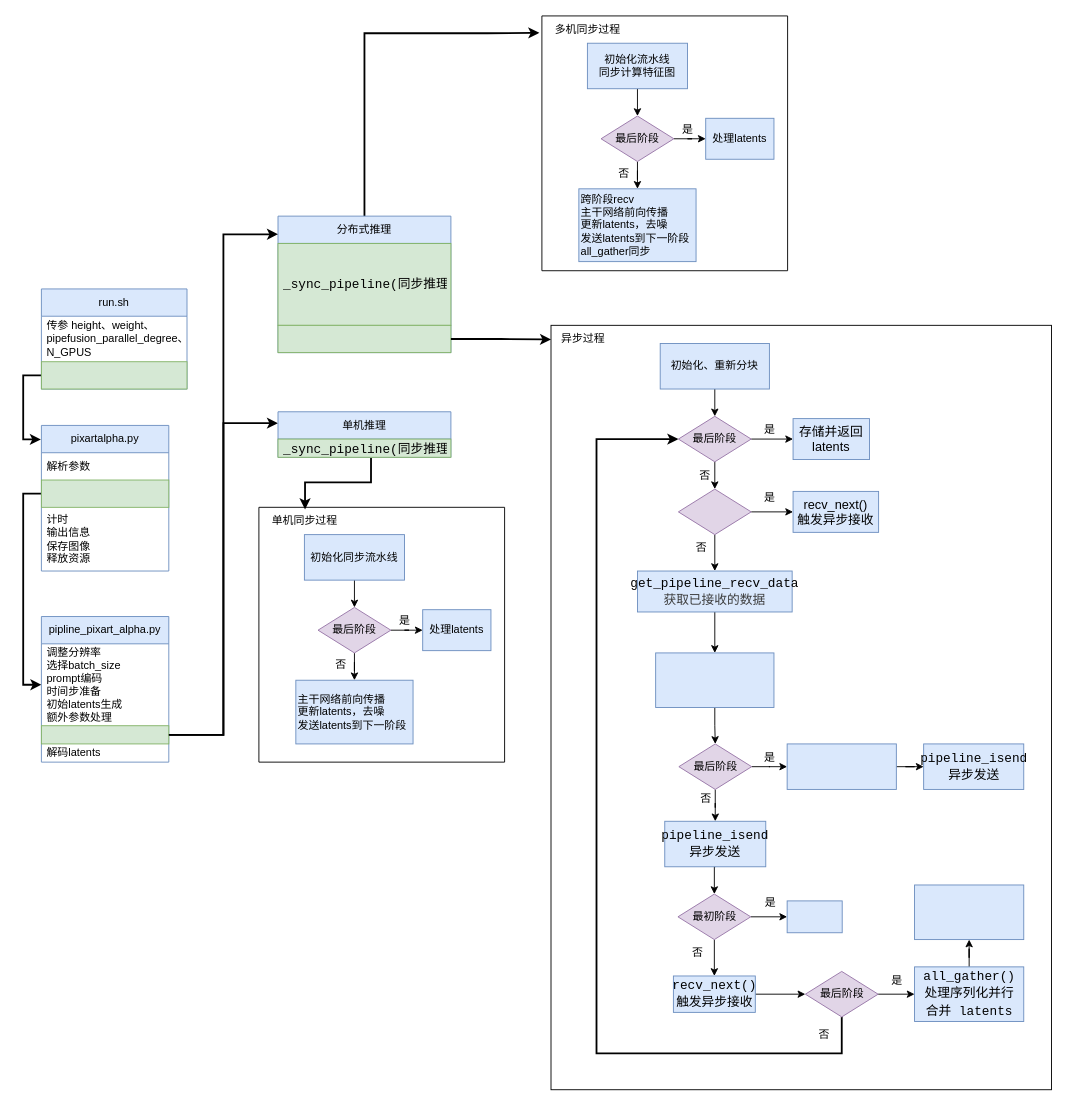
Some shapes in this 1067 by 1106 pixel diagram are drawn without their labels. Each missing label, with the centre of its shape:
_async_pipeline(异步推理): (x=364, y=338)
_backbone_forward 计算latents，去噪: (x=714, y=680)
_scheduler_step 更新latents: (x=841, y=766)
pass: (x=814, y=916)
torchrun 分布式运行: (x=113, y=375)
去噪阶段: (x=104, y=734)
第一次recv: (x=714, y=511)
返回latents: (x=969, y=912)
选择GPU运行: (x=104, y=493)
